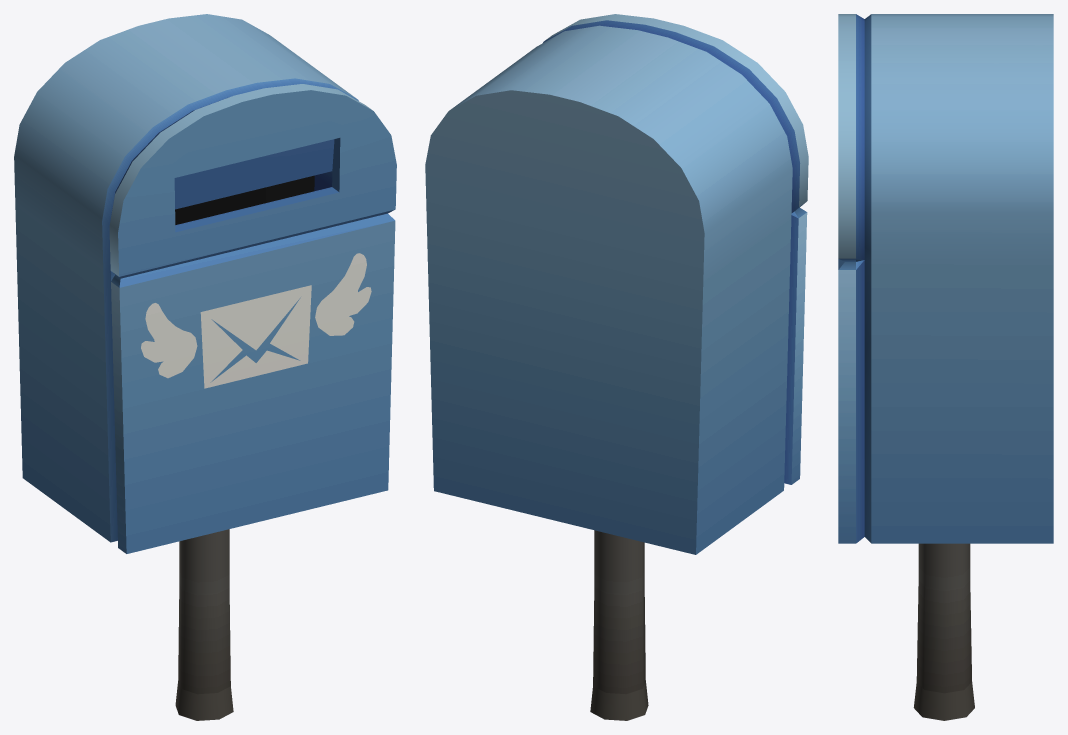
3 renders of one model, left to right at view 1: azimuth 30°, elevation 25°; view 2: azimuth 150°, elevation 25°; view 3: azimuth 270°, elevation 25°, orthographic. The views are drawn at different scales.
Visible parts, largest first — view 1: SM_PostBox; view 2: SM_PostBox; view 3: SM_PostBox.
Boxes of the visible parts, <box> form: SM_PostBox: <box>14,14,396,720</box>; SM_PostBox: <box>425,14,808,720</box>; SM_PostBox: <box>838,14,1053,720</box>.
Size of the model in its own units: 77.12 by 50 by 171.
Materials: 1 (1 with a texture image).
